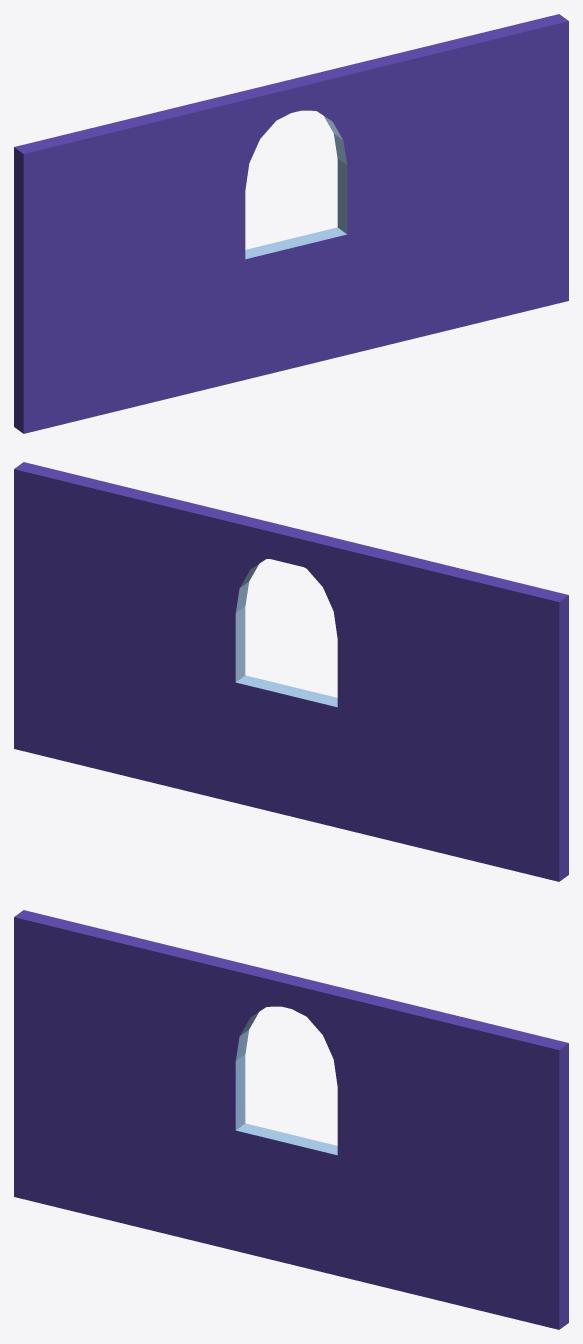
Rendered from WitchesHousewallfix.fbx.
The picture shows the model from 3 angles, top to bottom: view 1: azimuth 30°, elevation 25°; view 2: azimuth 150°, elevation 25°; view 3: azimuth 330°, elevation 25°; orthographic projection.
Visible parts, largest first — view 1: Cube.037; view 2: Cube.037; view 3: Cube.037.
Part boxes in pixels (x1,y1,x2,y2): Cube.037: (14, 14, 568, 433); Cube.037: (14, 462, 568, 881); Cube.037: (14, 910, 568, 1329).
Size of the model in its own units: 1442 by 707 by 44.53.
